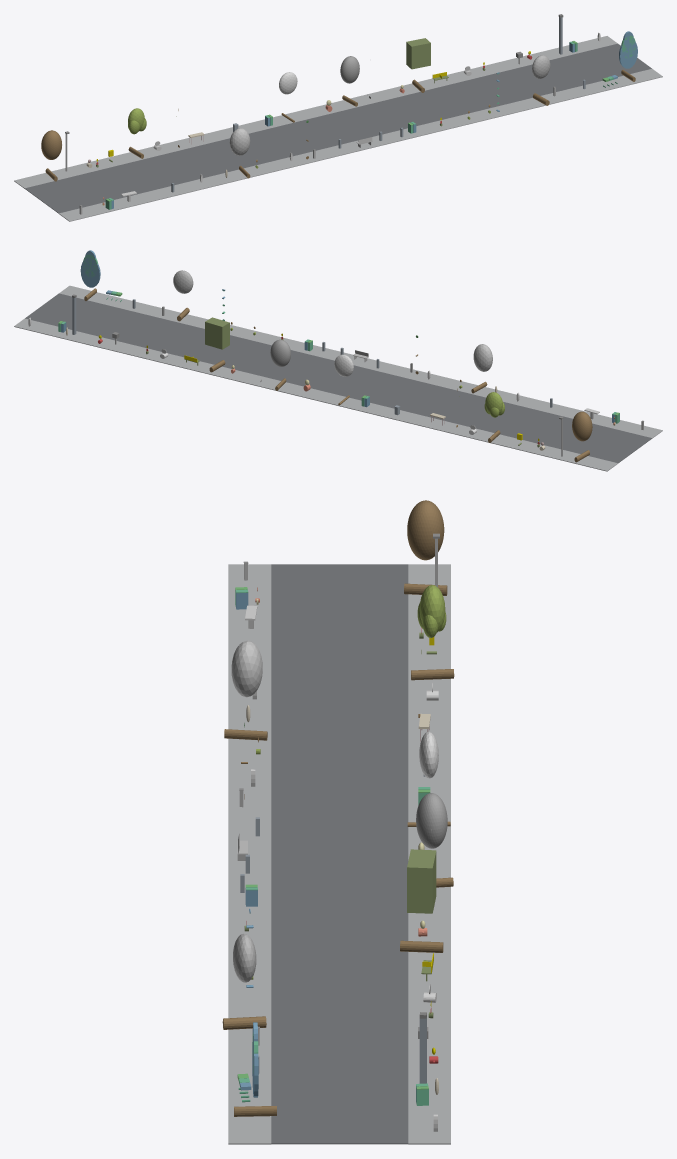
The picture shows the model from 3 angles, top to bottom: view 1: azimuth 30°, elevation 25°; view 2: azimuth 150°, elevation 25°; view 3: azimuth 270°, elevation 25°; orthographic projection. The views are drawn at different scales.
Visible parts, largest first — view 1: road_slab, sidewalk_left, sidewalk_right, inst_0023, inst_0025, inst_0018, inst_0020, inst_0022, inst_0019, inst_0024, inst_0021; view 2: road_slab, sidewalk_right, sidewalk_left, inst_0023, inst_0025, inst_0018, inst_0020, inst_0022, inst_0019, inst_0024, inst_0021; view 3: road_slab, sidewalk_left, sidewalk_right, inst_0023, inst_0018, inst_0020, inst_0019, inst_0022, inst_0024, inst_0025.
Part boxes in pixels (x1,y1,x2,y2): road_slab: (24, 43, 651, 213); sidewalk_left: (59, 68, 662, 221); sidewalk_right: (14, 36, 617, 188); inst_0023: (406, 38, 430, 92); inst_0025: (619, 31, 637, 81); inst_0018: (41, 130, 61, 181); inst_0020: (229, 128, 250, 178); inst_0022: (340, 56, 359, 106); inst_0019: (128, 108, 146, 158); inst_0024: (532, 55, 550, 105); inst_0021: (279, 72, 297, 122); road_slab: (25, 293, 652, 463); sidewalk_right: (14, 318, 617, 471); sidewalk_left: (59, 285, 662, 438); inst_0023: (205, 317, 229, 372); inst_0025: (80, 250, 100, 300); inst_0018: (572, 411, 592, 462); inst_0020: (471, 344, 492, 393); inst_0022: (270, 339, 290, 390); inst_0019: (484, 392, 504, 442); inst_0024: (173, 270, 193, 321); inst_0021: (334, 354, 353, 405); road_slab: (271, 564, 408, 1144); sidewalk_left: (228, 564, 271, 1144); sidewalk_right: (408, 564, 450, 1144); inst_0023: (400, 849, 443, 952); inst_0018: (404, 500, 447, 595); inst_0020: (224, 640, 267, 740); inst_0019: (411, 585, 454, 680); inst_0022: (416, 793, 453, 887); inst_0024: (222, 934, 266, 1029); inst_0025: (234, 1022, 276, 1116).
Bounding box in the file's own units: 80 × 6.08 × 13.51.
